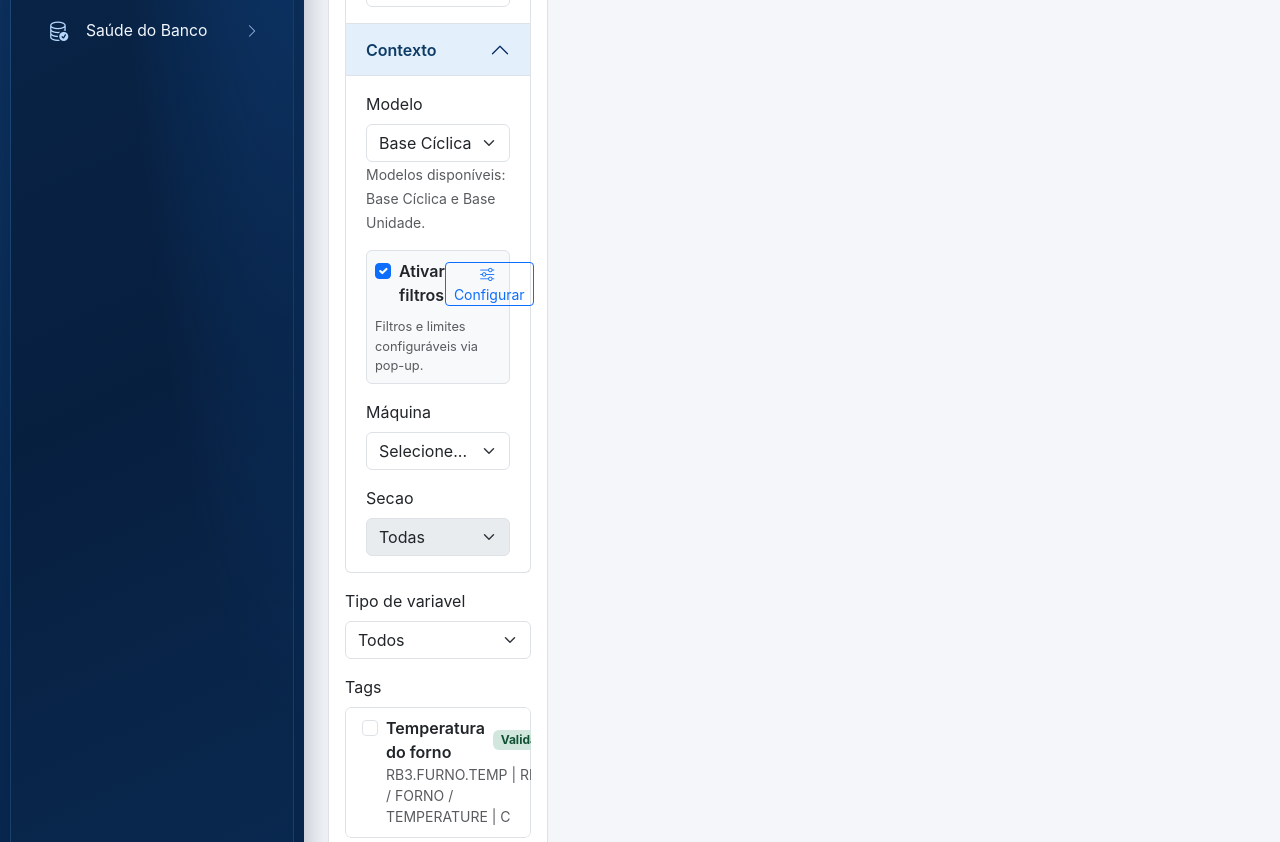
Test: Visualização de Dados - Correções dos 8 Bugs › Bug 6: Validação e acessibilidade de seleção de tags › destaca TagMultiSelect com atributos de acessibilidade ao tentar consultar sem tags
(page scrolled)
Select "RB1 - Equipamento RB3" in the dropdown with test id "equipment-select" at (438, 451), box [366, 432, 510, 470]
(page scrolled)
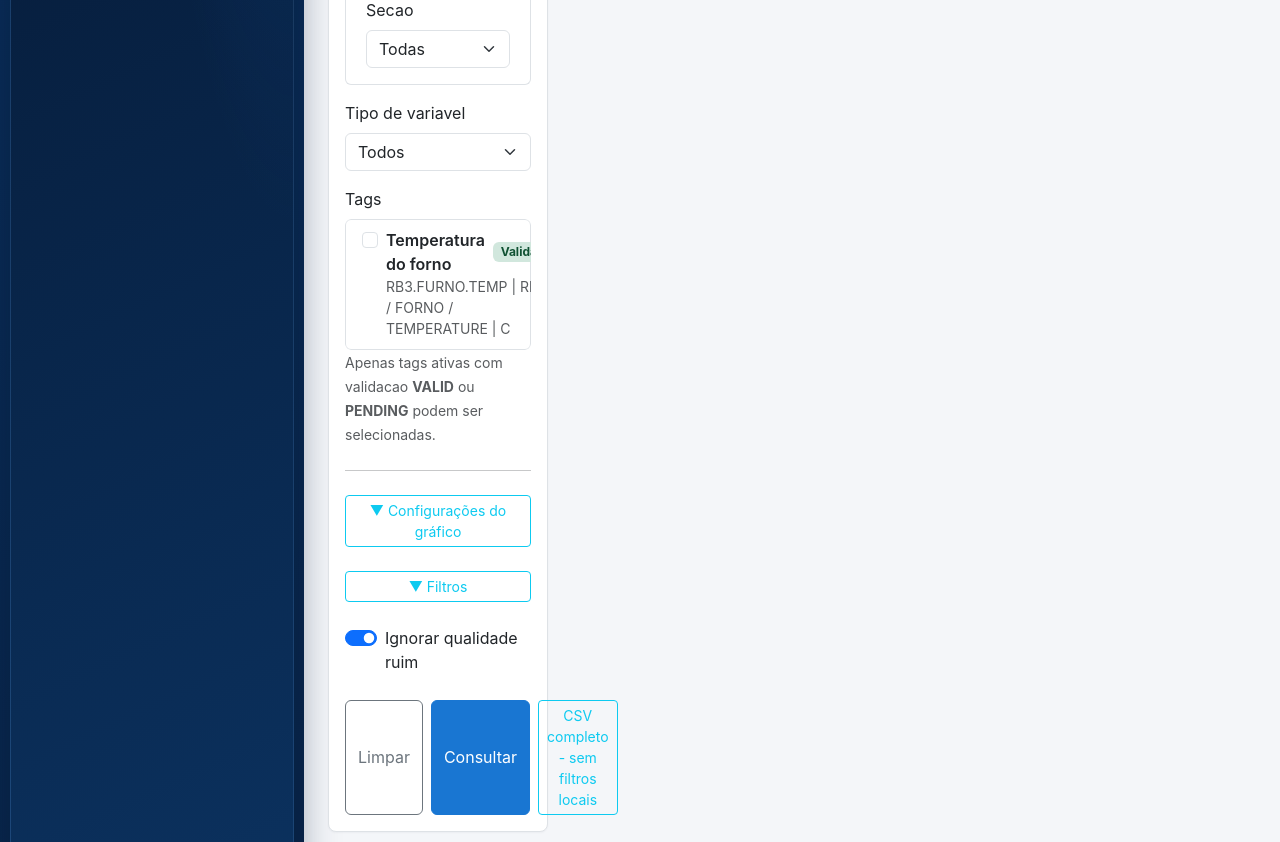
# Tenta submeter sem selecionar nenhuma tag
Click the button with test id "filters-submit" at (480, 758), box [431, 700, 530, 815]
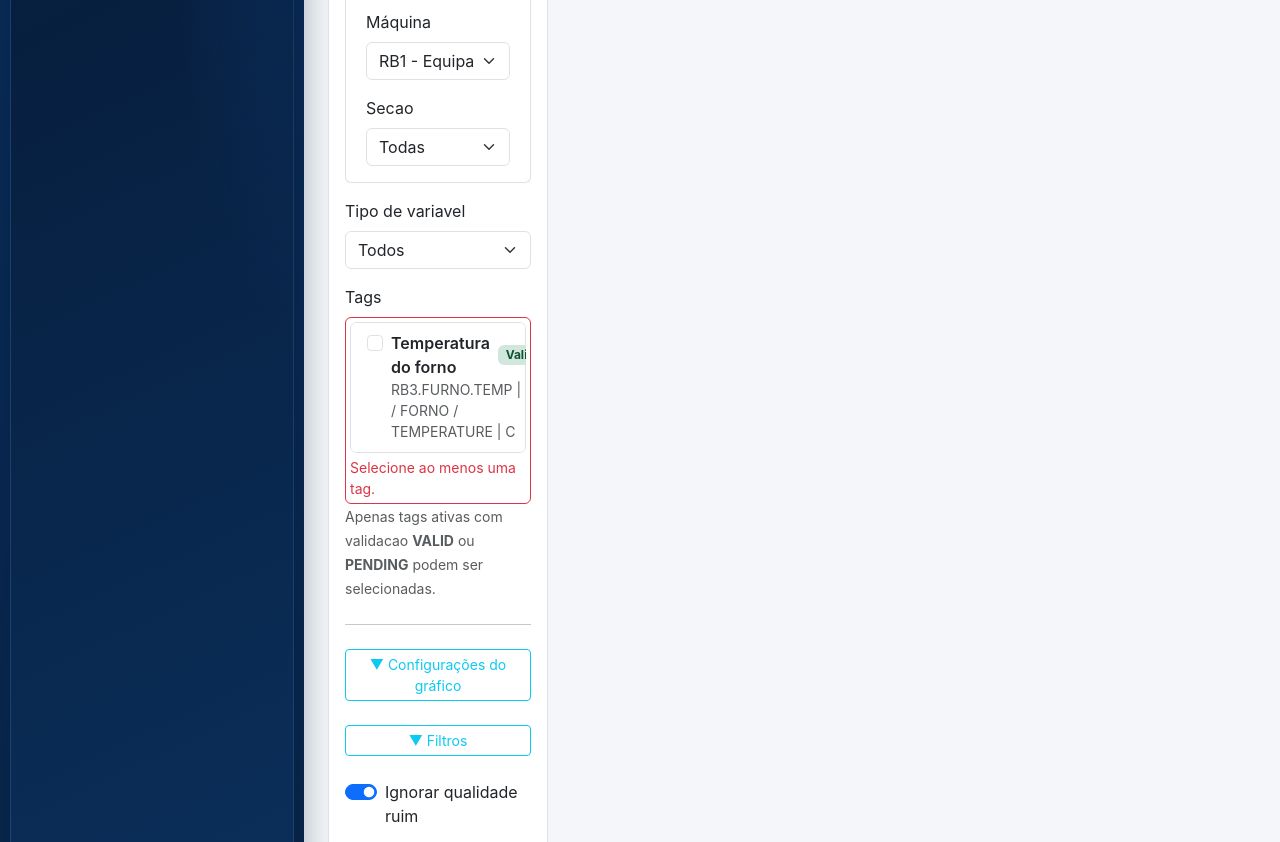
Check: the message with test id "tag-selection-error" shows "Selecione ao menos uma tag", box [350, 459, 516, 497]
